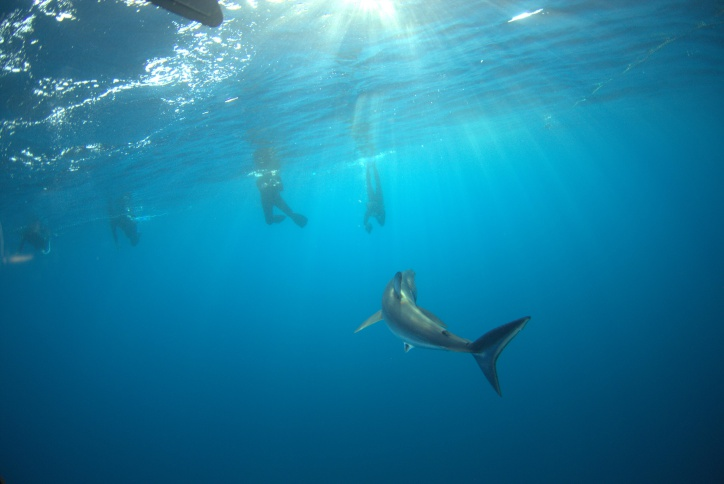Mako: (323, 258, 536, 398)
